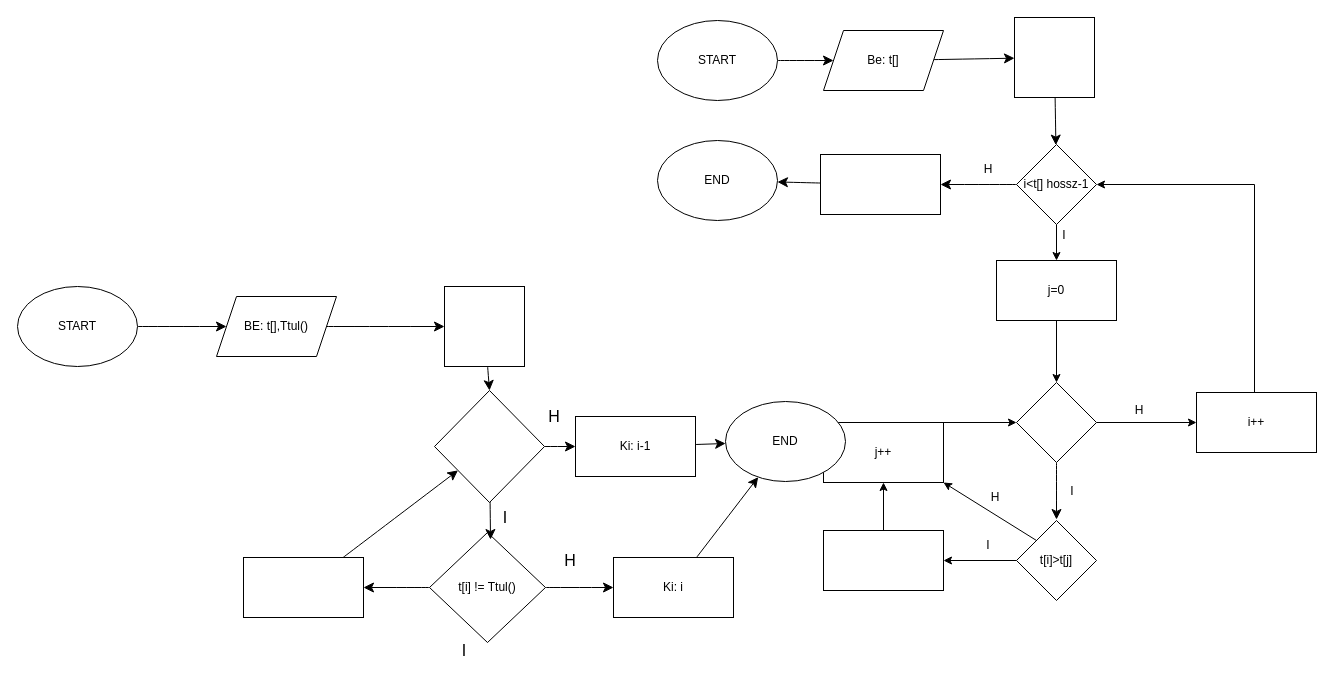
The diagram is 1334 pixels wide and 683 high, and some of its shapes have lost their labels. The centre of each missing label's shape, as x and y in pixels:
"csere = 0 i = 0 j = 0" goes at pixel 1054 57.
"csere = t[i] t[i] = t[j] t[j] = csere" goes at pixel 883 560.
"i < t[]hossz" goes at pixel 489 446.
"i = 0" goes at pixel 484 326.
"i++;" goes at pixel 303 587.
"j<t[] hossz" goes at pixel 1056 422.
"Ki: t[]" goes at pixel 880 184.
